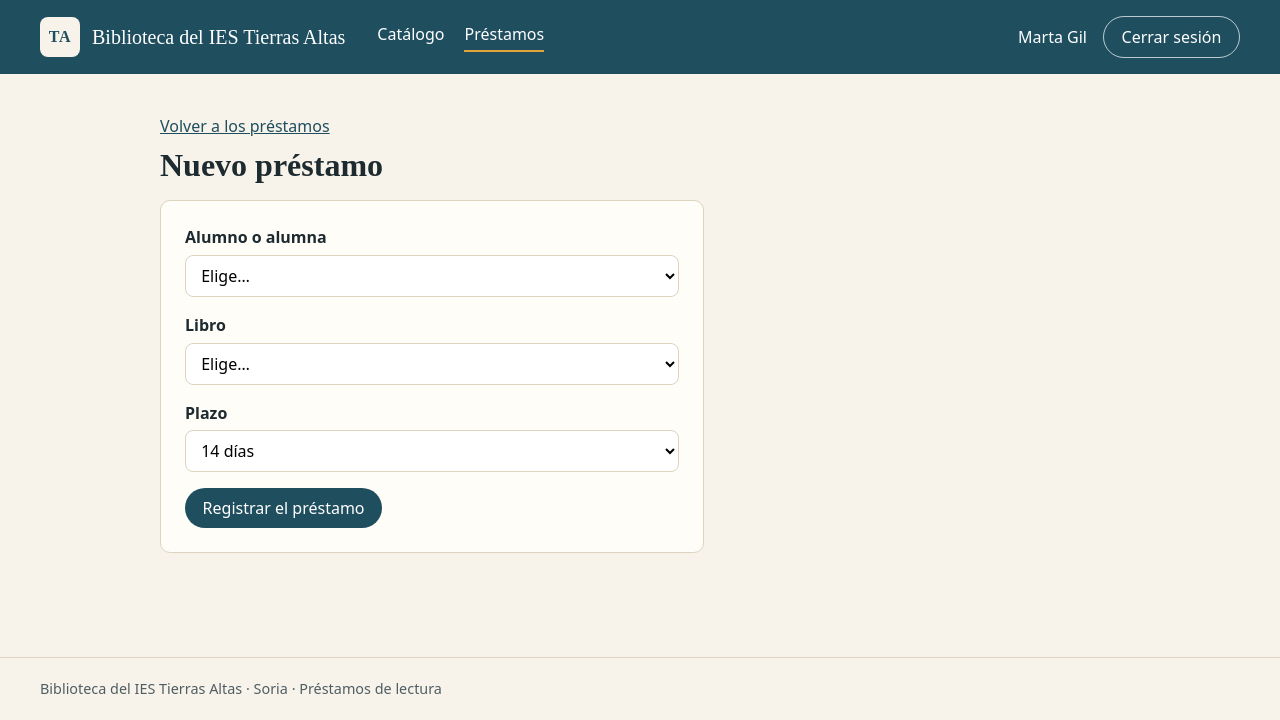
Test: Un préstamo nuevo › se registra y aparece en la lista
Select "Nerea Soto (4.º ESO B)" in the dropdown labelled "Alumno o alumna" at [432, 276], box [185,255,679,297]
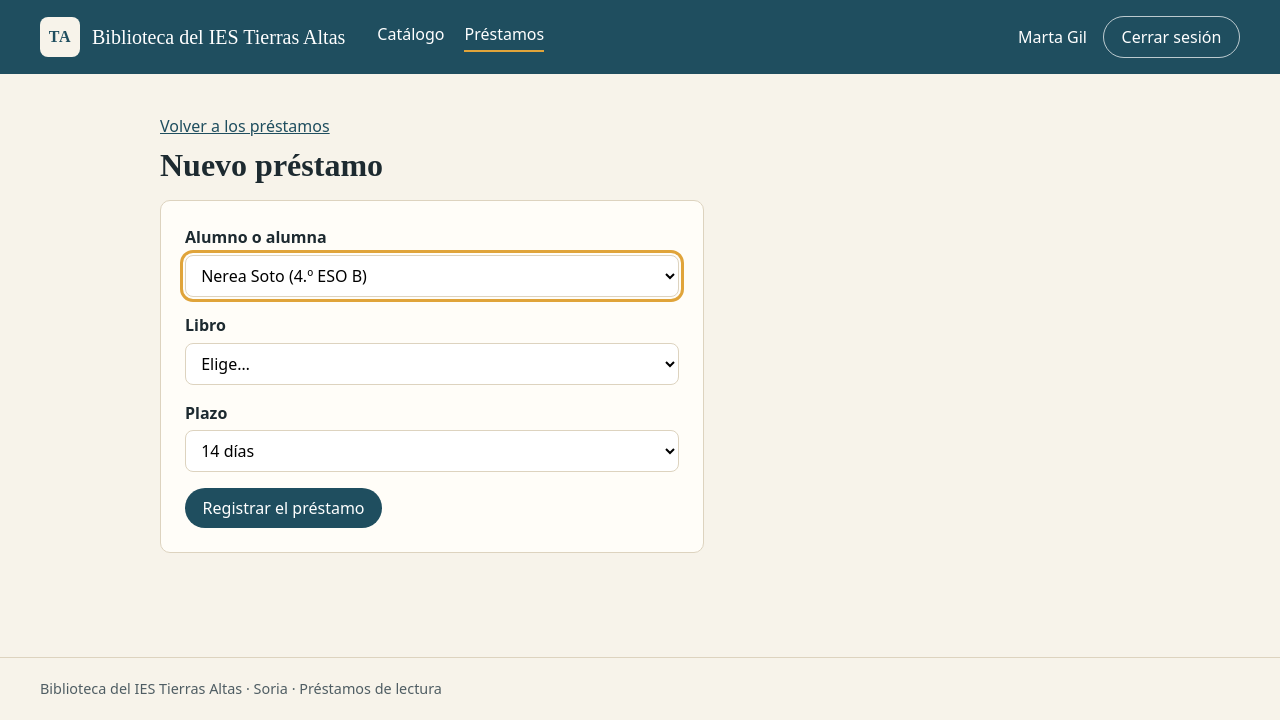
Select "El camino (4 disponibles)" in the dropdown labelled "Libro" at [432, 364], box [185,343,679,385]
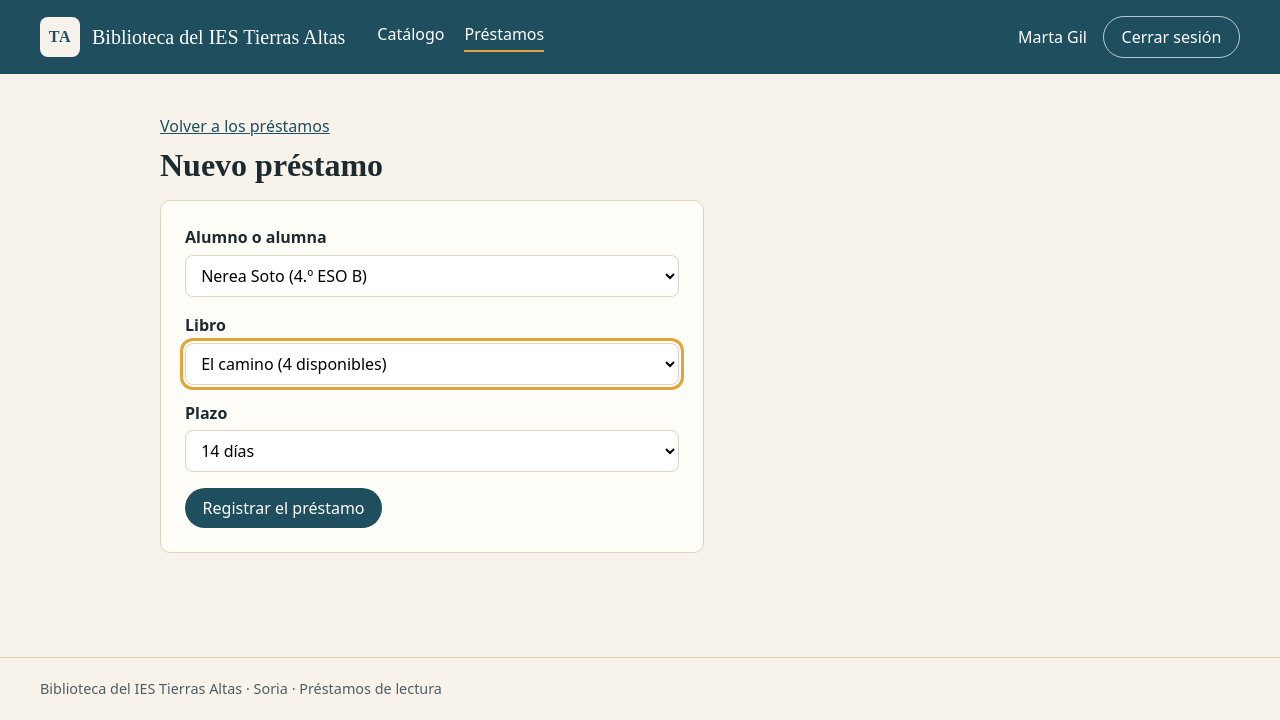
Select "21 días" in the dropdown labelled "Plazo" at [432, 451], box [185,430,679,472]
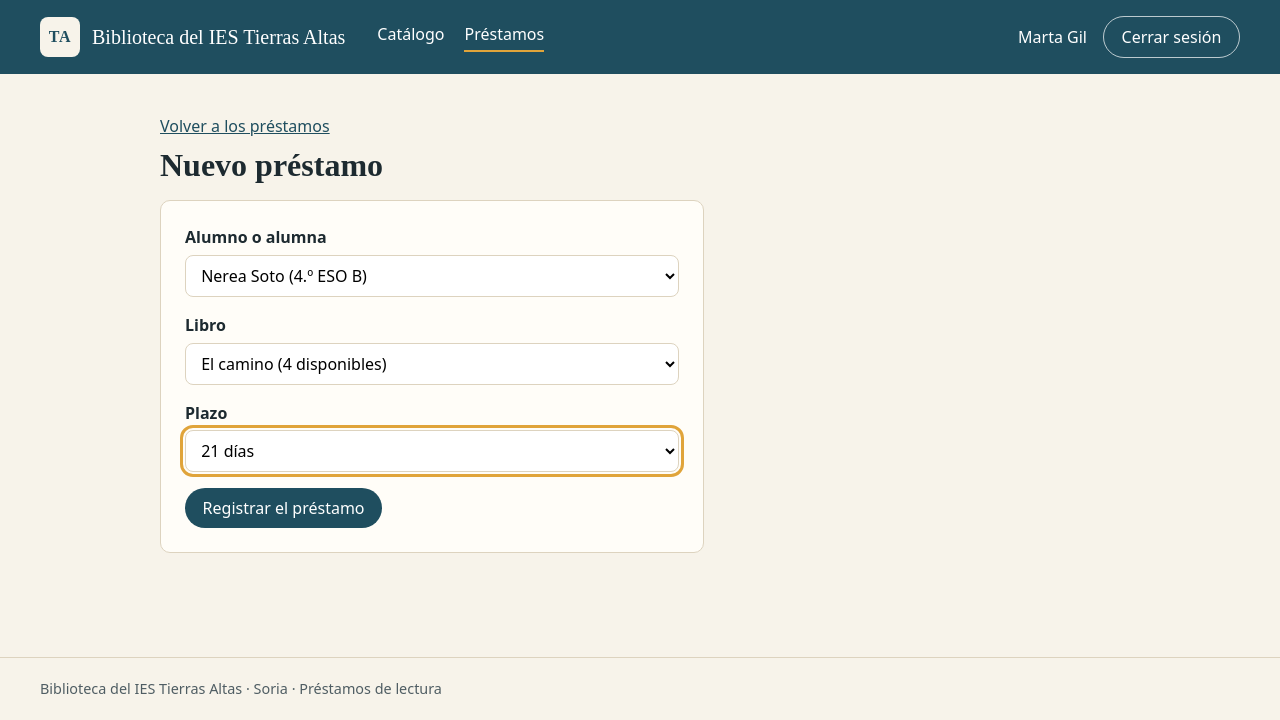
Click the button "Registrar el préstamo".
click(284, 508)  # box [185,488,382,528]
(page scrolled)
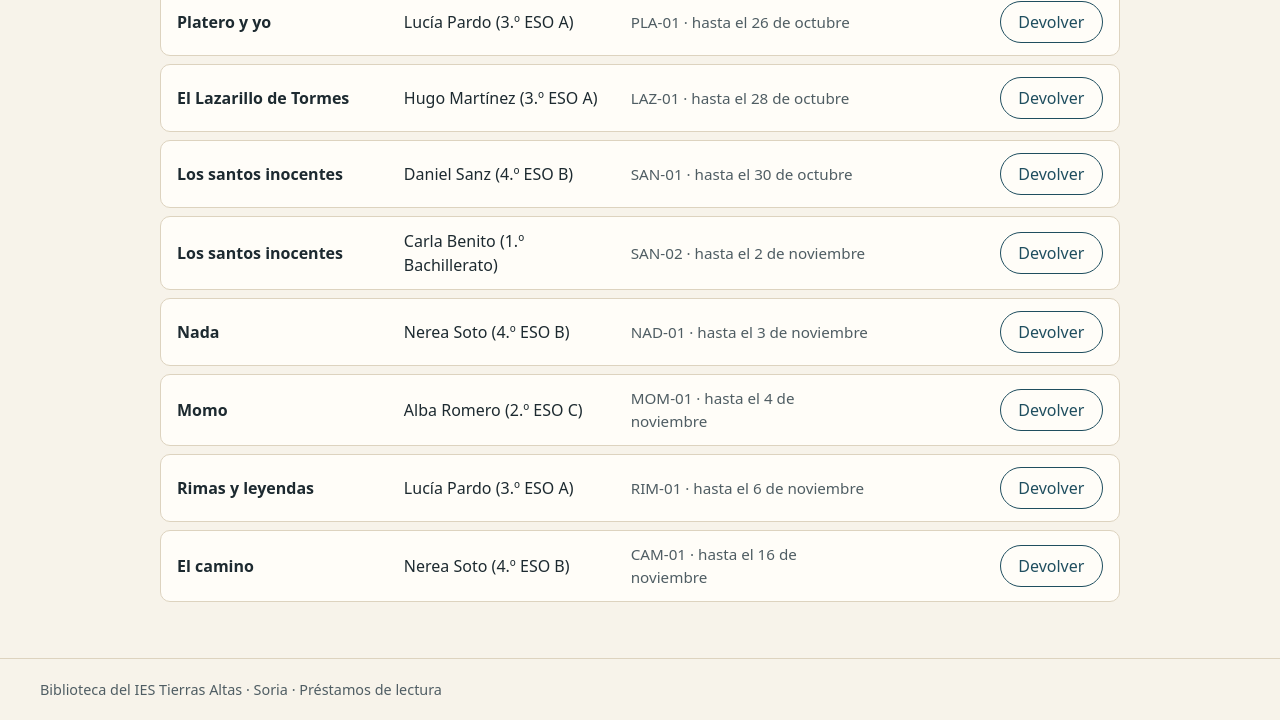
Check: the list item "El camino" shows "Nerea Soto (4.º ESO B)", box [160,530,1120,602]
Check: the list item "El camino" shows "CAM-01 · hasta el 16 de noviembre", box [160,530,1120,602]
